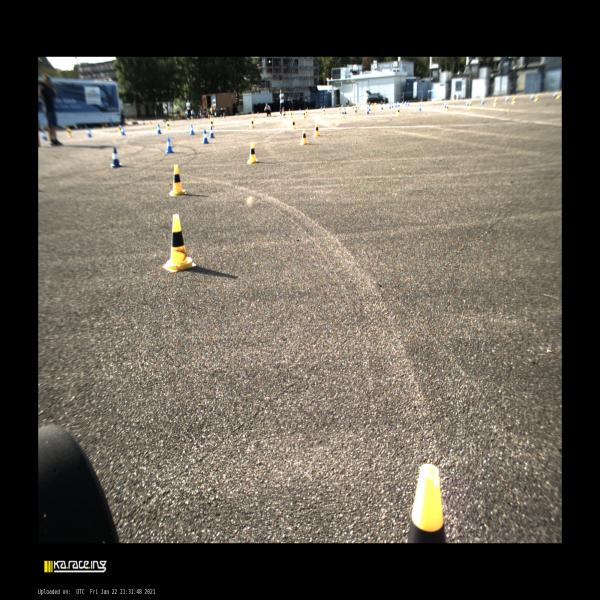blue_cone: (110, 147, 122, 168), (166, 137, 174, 153), (202, 129, 209, 144), (208, 126, 215, 138), (189, 123, 195, 136), (156, 123, 162, 134), (121, 125, 126, 136), (87, 128, 92, 137), (418, 103, 421, 111), (366, 107, 369, 114), (344, 107, 347, 114)
yellow_cone: (407, 464, 446, 543), (163, 214, 196, 272), (169, 164, 186, 195), (247, 142, 258, 164), (299, 128, 308, 146), (313, 122, 320, 137), (249, 118, 255, 128), (291, 118, 296, 130), (166, 121, 170, 131), (446, 104, 450, 112), (469, 101, 472, 110), (397, 108, 400, 115)
